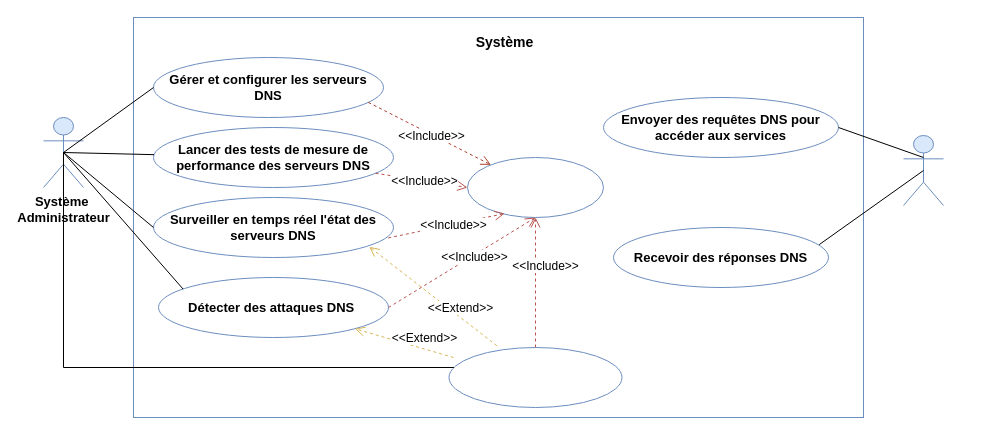
The diagram is 1000 pixels wide and 435 high, and some of its shapes have lost their labels. The centre of each missing label's shape, as x and y in pixels:
"Les clients Orange de la zone MEA" goes at (x=923, y=170).
"Recevoir des alertes" goes at (x=535, y=377).
"S'authentifier" goes at (x=535, y=187).
